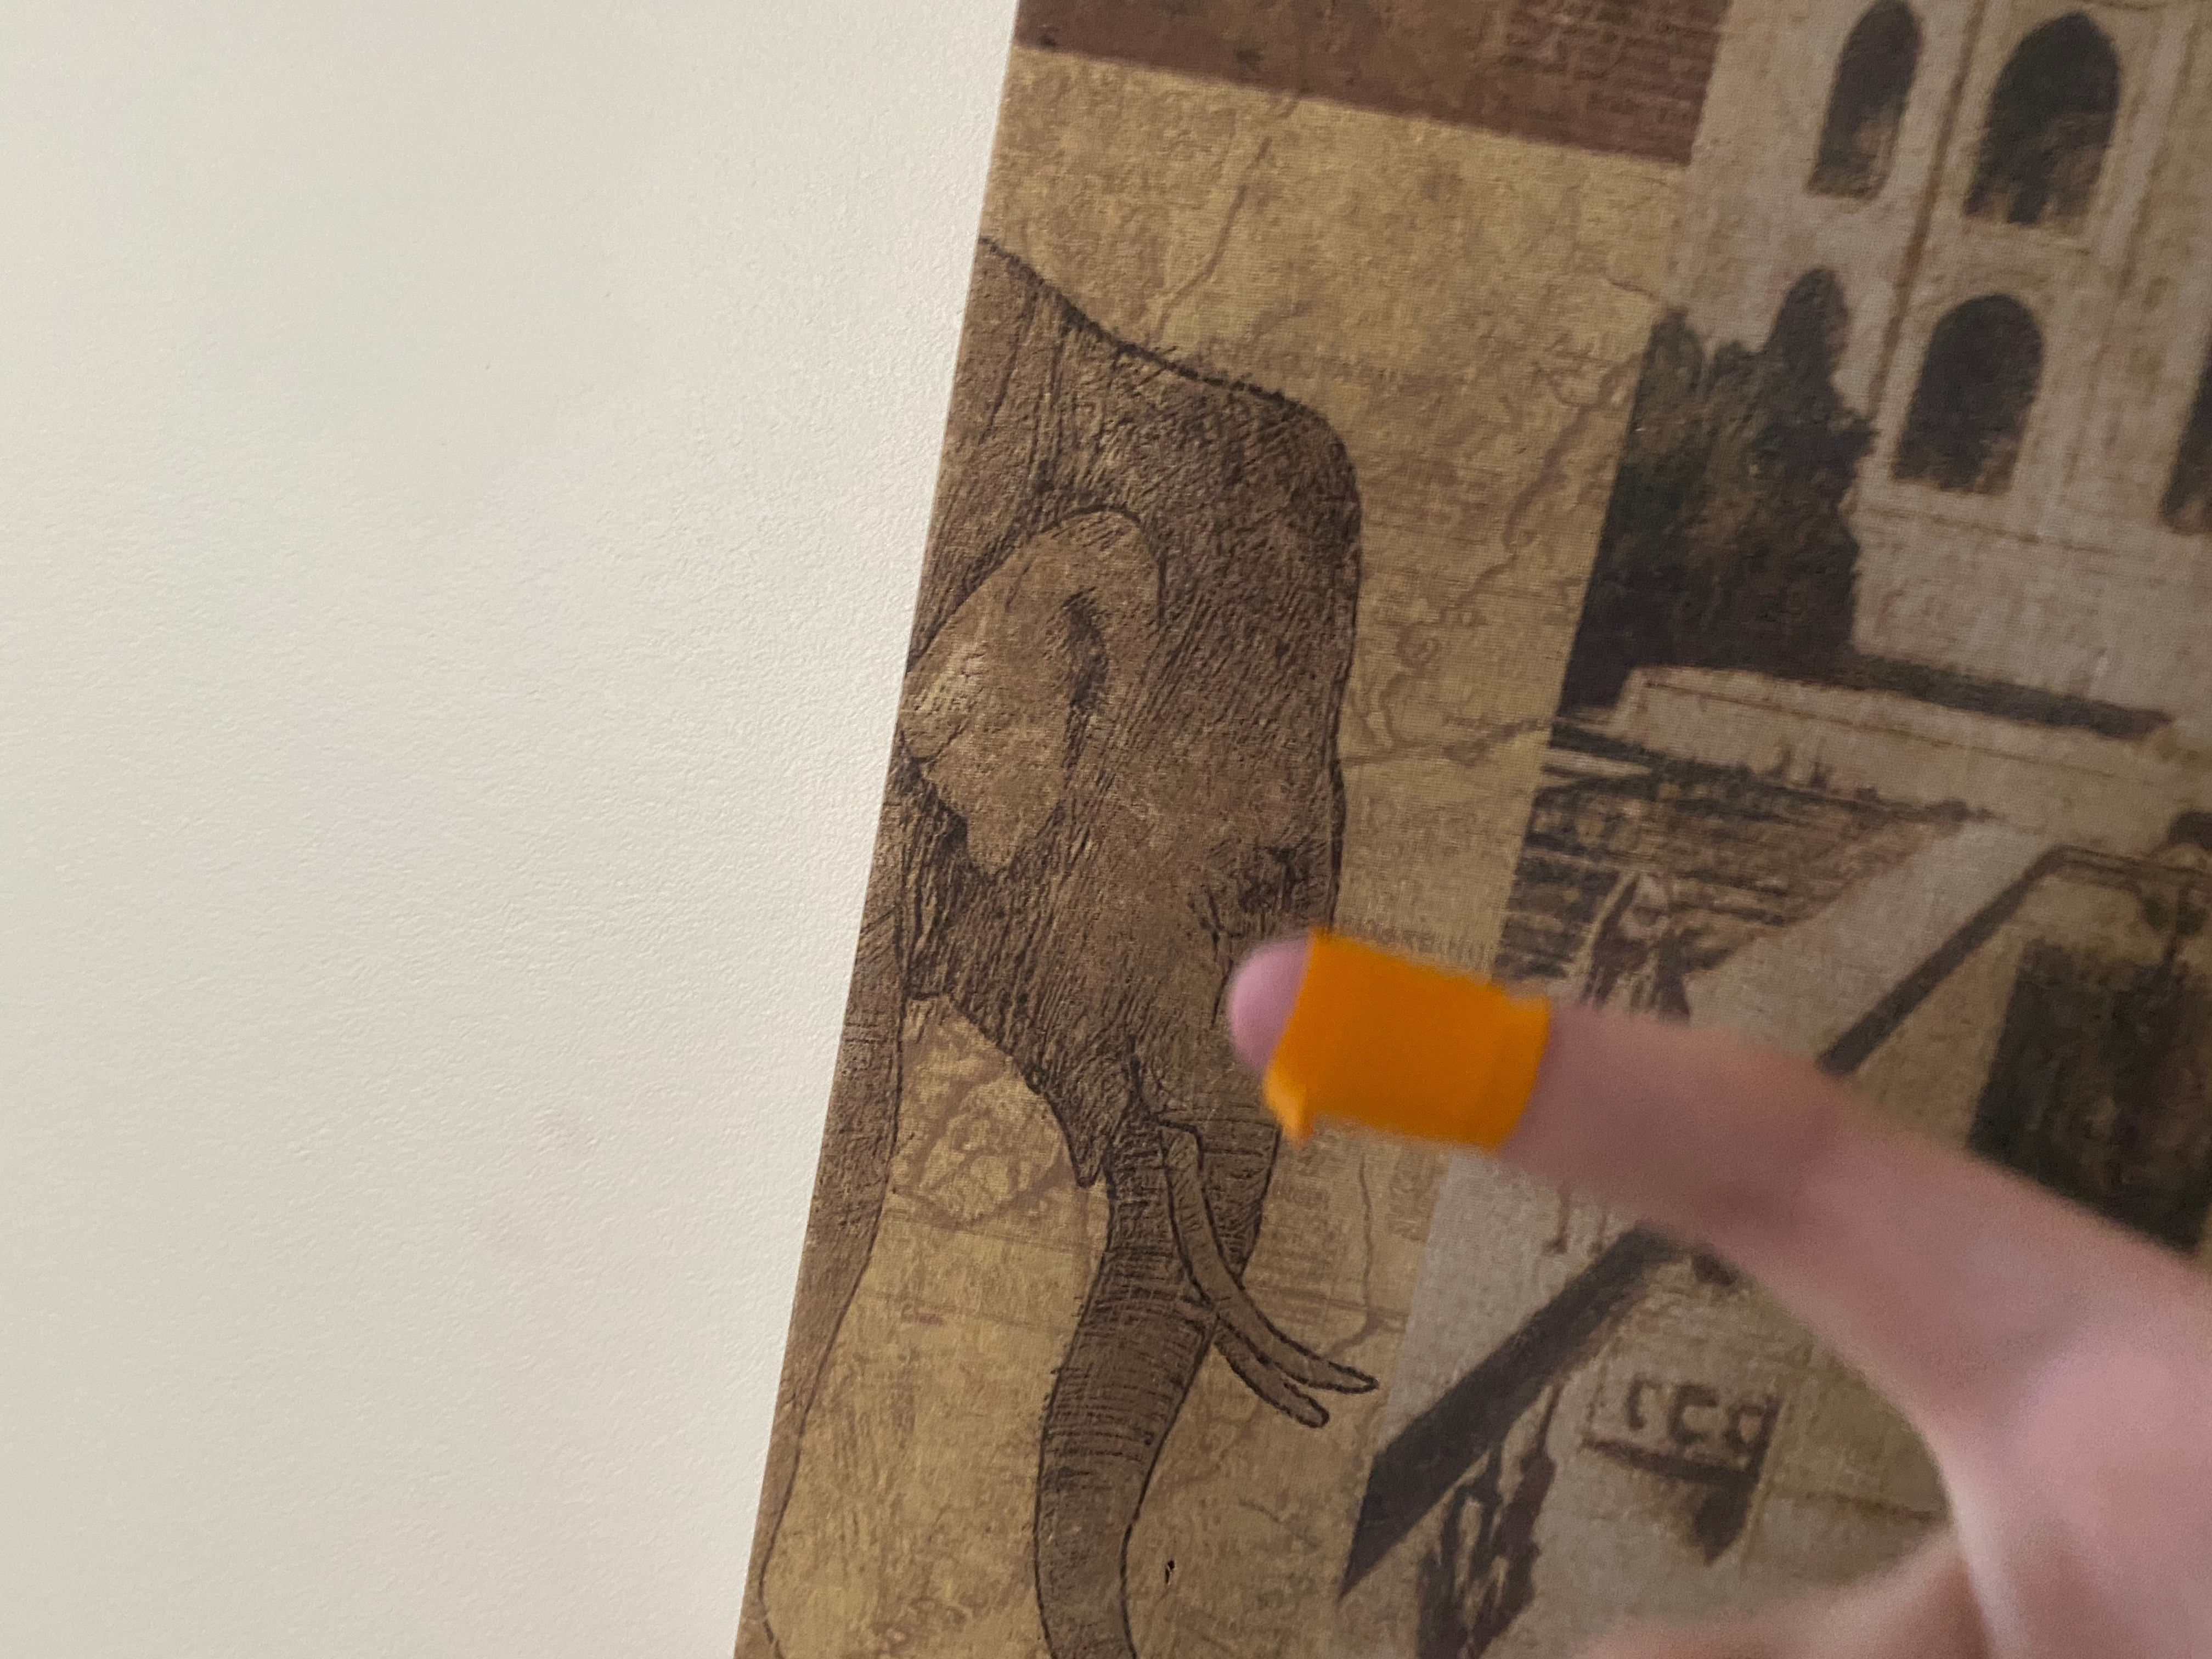fingertip: (1235, 917, 1571, 1239)
